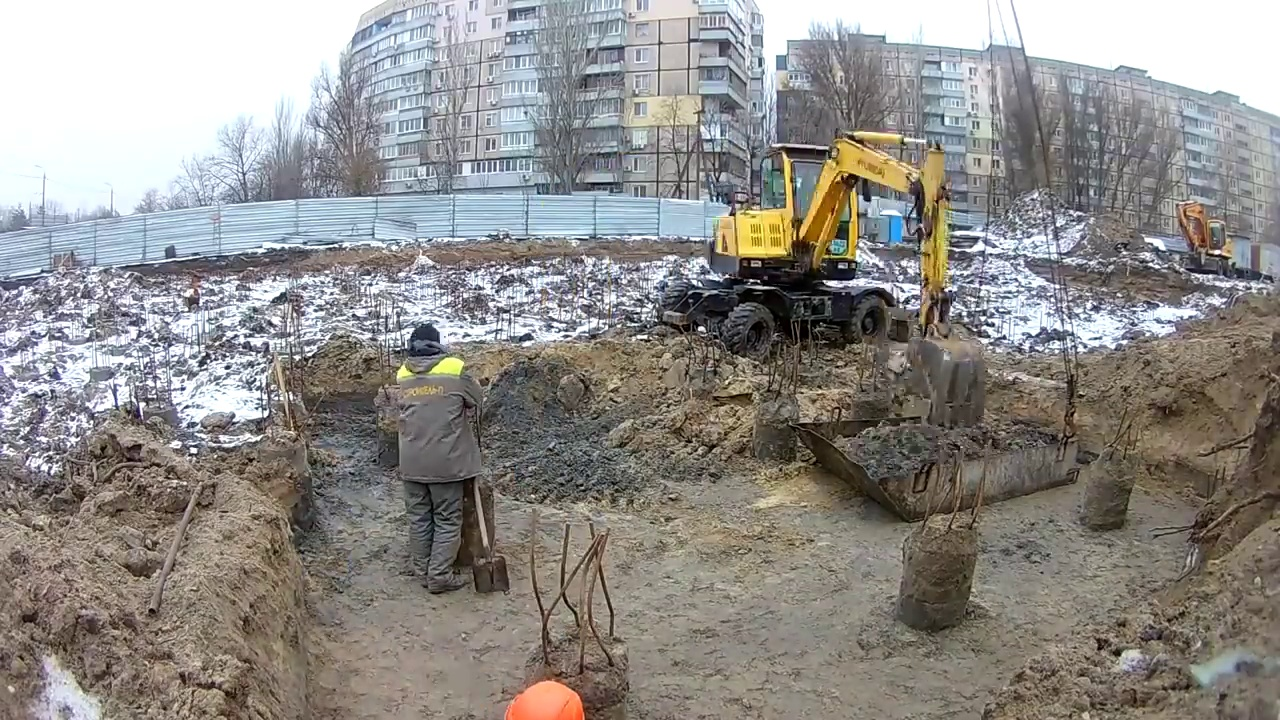helmet: (501, 677, 590, 720)
helmet-off: (402, 328, 442, 366)
person: (384, 324, 486, 599)
